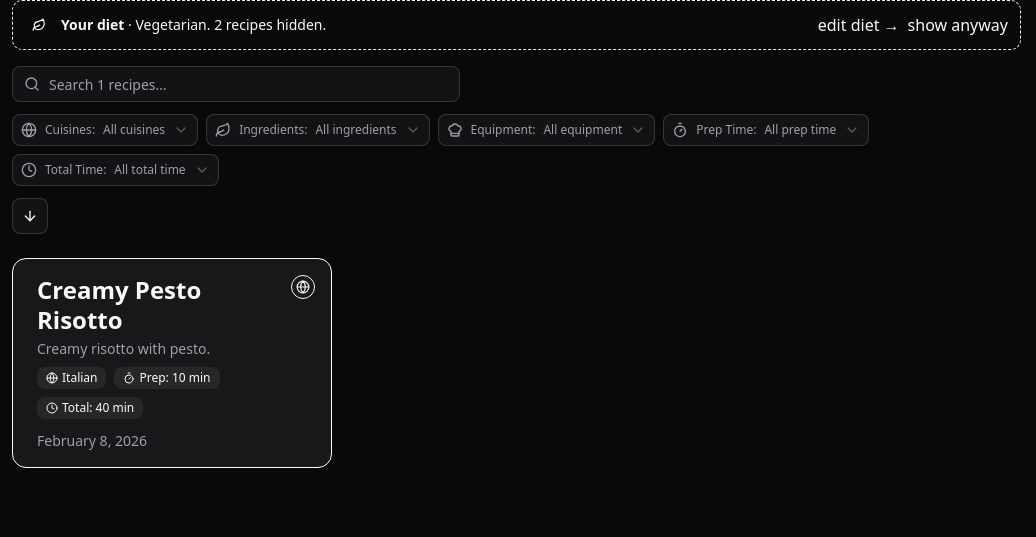
Test: RecipeList › hides diet mismatches and lets the user temporarily show them
Expected: the text "Chicken Quesadillas" is not shown
Expected: the text "Creamy Pesto Risotto" is shown, top-left (37, 273), bottom-right (201, 336)
Click the button "show anyway" at (958, 25), box top-left (908, 13), bottom-right (1008, 37)
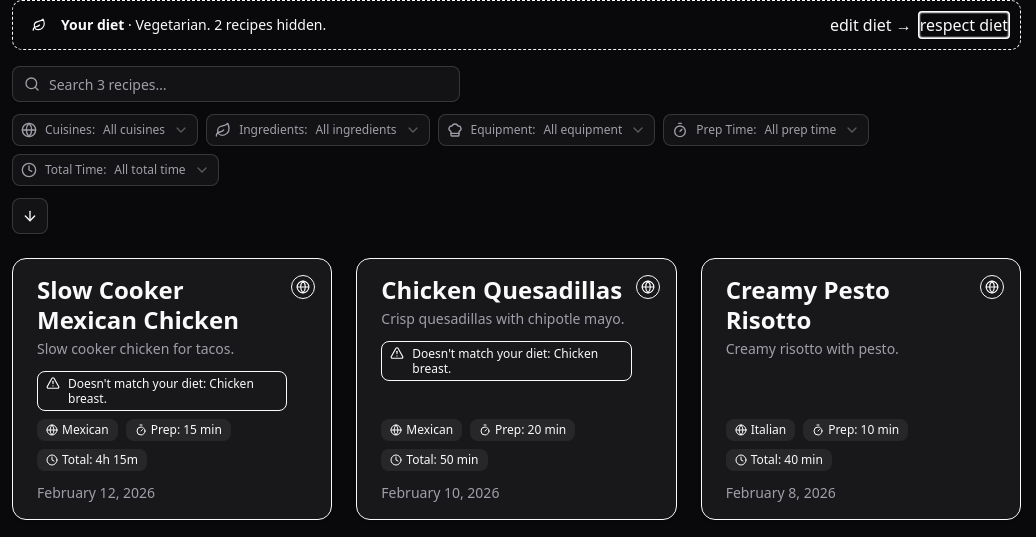
Expected: the text "Chicken Quesadillas" is shown, top-left (381, 275), bottom-right (632, 305)
Expected: the text "Doesn't match your diet: Chicken breast." is shown 2 times, top-left (68, 376), bottom-right (278, 406); top-left (412, 346), bottom-right (623, 376)
